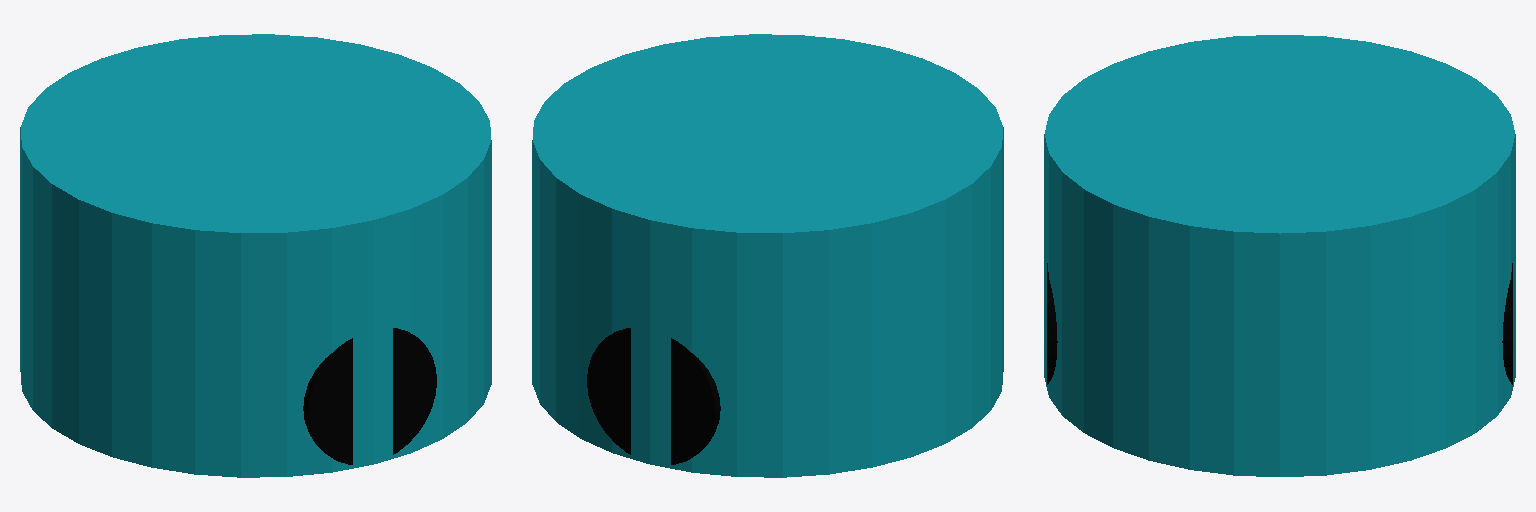
URDF robot description (turtlebot3_burger):
<?xml version="1.0"?>
<robot name="turtlebot3_burger">
  <material name="black">
    <color rgba="0.05 0.05 0.05 1"/>
  </material>
  <material name="turquoise">
    <color rgba="0.1 0.65 0.7 1"/>
  </material>

  <link name="base_footprint"/>

  <joint name="base_joint" type="fixed">
    <parent link="base_footprint"/>
    <child link="base_link"/>
    <origin xyz="0 0 0.08"/>
  </joint>

  <link name="base_link">
    <visual>
      <origin xyz="0 0 0.06"/>
      <geometry>
        <cylinder radius="0.105" length="0.12"/>
      </geometry>
      <material name="turquoise"/>
    </visual>
    <collision>
      <origin xyz="0 0 0.06"/>
      <geometry>
        <cylinder radius="0.105" length="0.12"/>
      </geometry>
    </collision>
    <inertial>
      <origin xyz="0 0 0.06"/>
      <mass value="1.0"/>
      <inertia ixx="0.005" ixy="0" ixz="0" iyy="0.005" iyz="0" izz="0.005"/>
    </inertial>
  </link>

  <link name="left_wheel_link">
    <visual>
      <origin rpy="1.5708 0 0"/>
      <geometry><cylinder radius="0.033" length="0.018"/></geometry>
      <material name="black"/>
    </visual>
    <collision>
      <origin rpy="1.5708 0 0"/>
      <geometry><cylinder radius="0.033" length="0.018"/></geometry>
    </collision>
    <inertial>
      <mass value="0.05"/>
      <inertia ixx="0.0001" ixy="0" ixz="0" iyy="0.0001" iyz="0" izz="0.0001"/>
    </inertial>
  </link>
  <joint name="left_wheel_joint" type="continuous">
    <parent link="base_link"/>
    <child link="left_wheel_link"/>
    <origin xyz="0 0.095 0.033" rpy="0 0 0"/>
    <axis xyz="0 1 0"/>
  </joint>

  <link name="right_wheel_link">
    <visual>
      <origin rpy="1.5708 0 0"/>
      <geometry><cylinder radius="0.033" length="0.018"/></geometry>
      <material name="black"/>
    </visual>
    <collision>
      <origin rpy="1.5708 0 0"/>
      <geometry><cylinder radius="0.033" length="0.018"/></geometry>
    </collision>
    <inertial>
      <mass value="0.05"/>
      <inertia ixx="0.0001" ixy="0" ixz="0" iyy="0.0001" iyz="0" izz="0.0001"/>
    </inertial>
  </link>
  <joint name="right_wheel_joint" type="continuous">
    <parent link="base_link"/>
    <child link="right_wheel_link"/>
    <origin xyz="0 -0.095 0.033" rpy="0 0 0"/>
    <axis xyz="0 1 0"/>
  </joint>

  <link name="caster_link">
    <visual>
      <origin xyz="-0.075 0 0.02"/>
      <geometry><sphere radius="0.02"/></geometry>
      <material name="black"/>
    </visual>
    <collision>
      <origin xyz="-0.075 0 0.02"/>
      <geometry><sphere radius="0.02"/></geometry>
    </collision>
    <inertial>
      <mass value="0.02"/>
      <inertia ixx="0.00001" ixy="0" ixz="0" iyy="0.00001" iyz="0" izz="0.00001"/>
    </inertial>
  </link>
  <joint name="caster_joint" type="fixed">
    <parent link="base_link"/>
    <child link="caster_link"/>
  </joint>

  <link name="laser"/>
  <joint name="laser_joint" type="fixed">
    <parent link="base_link"/>
    <child link="laser"/>
    <origin xyz="0 0 0.04"/>
  </joint>

  <link name="camera_link"/>
  <joint name="camera_joint" type="fixed">
    <parent link="base_link"/>
    <child link="camera_link"/>
    <origin xyz="0.09 0 0.08"/>
  </joint>

  <link name="camera_link_optical"/>
  <joint name="camera_optical_joint" type="fixed">
    <parent link="camera_link"/>
    <child link="camera_link_optical"/>
    <origin rpy="-1.5708 0 -1.5708"/>
  </joint>

  <gazebo>
    <plugin name="diff_drive" filename="libgazebo_ros_diff_drive.so">
      <ros><namespace>/</namespace></ros>
      <update_rate>50</update_rate>
      <left_joint>left_wheel_joint</left_joint>
      <right_joint>right_wheel_joint</right_joint>
      <wheel_separation>0.19</wheel_separation>
      <wheel_diameter>0.066</wheel_diameter>
      <max_wheel_torque>2.0</max_wheel_torque>
      <command_topic>cmd_vel</command_topic>
      <odometry_topic>odom</odometry_topic>
      <odometry_frame>odom</odometry_frame>
      <robot_base_frame>base_footprint</robot_base_frame>
      <publish_odom>true</publish_odom>
      <publish_odom_tf>true</publish_odom_tf>
    </plugin>
  </gazebo>
</robot>

--- Render facts (derived) ---
The picture shows the robot from 3 angles, left to right: view 1: azimuth 30°, elevation 25°; view 2: azimuth 150°, elevation 25°; view 3: azimuth 270°, elevation 25°; orthographic projection.
Robot: turtlebot3_burger — 8 links, 7 joints (2 continuous, 5 fixed); root link base_footprint; default pose: every joint at zero.
Visible links, largest first — view 1: base_link, right_wheel_link; view 2: base_link, left_wheel_link; view 3: base_link, left_wheel_link, right_wheel_link.
Boxes of the visible links, x1=… form: base_link: x1=20, y1=34, x2=491, y2=477; right_wheel_link: x1=303, y1=328, x2=436, y2=464; base_link: x1=532, y1=34, x2=1003, y2=477; left_wheel_link: x1=587, y1=328, x2=720, y2=464; base_link: x1=1044, y1=35, x2=1515, y2=476; left_wheel_link: x1=1502, y1=263, x2=1512, y2=384; right_wheel_link: x1=1047, y1=263, x2=1057, y2=384.
Bounding box of the posed robot: 0.21 × 0.21 × 0.12 m (x, y, z).
Geometry: primitives only (box / cylinder / sphere), no mesh files.
